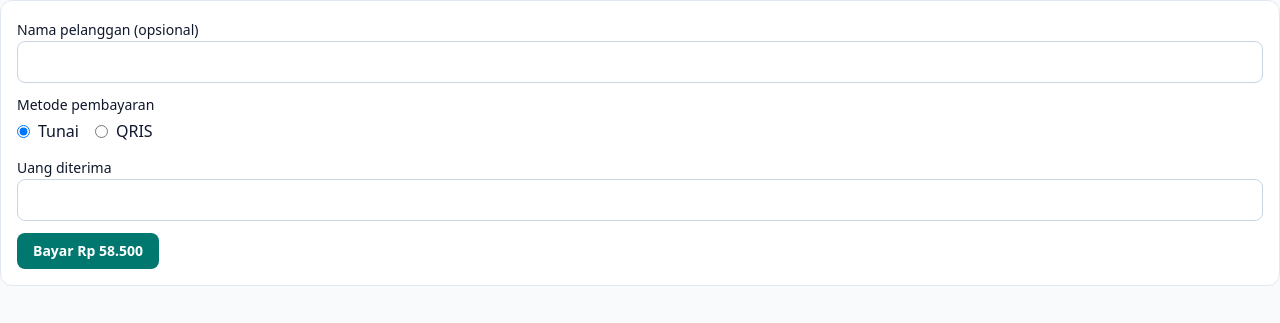
Test case: FormPembayaran (React Hook Form + Zod) › menampilkan kembalian dan mengirim data bertipe angka
Later steps or results of the test are not shown.
Type " Budi " into the field labelled "Nama pelanggan (opsional)" at point(640, 62), box [17,41,1263,83]
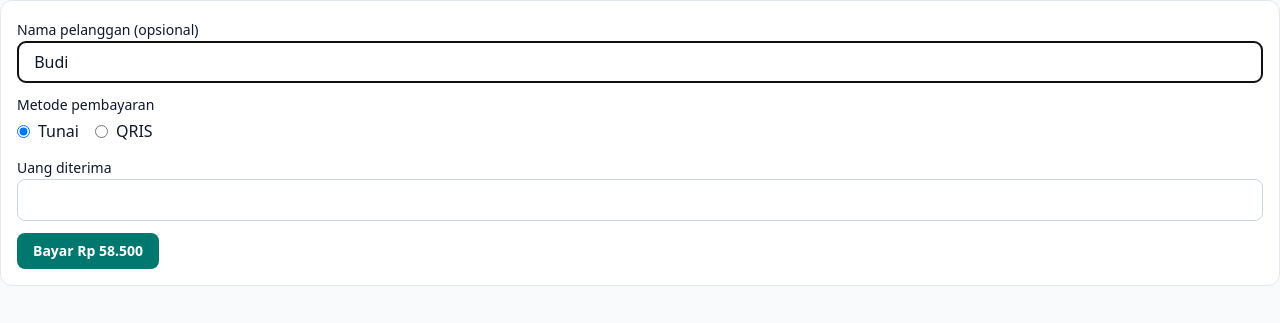
Type "60000" into the number field labelled "Uang diterima" at point(640, 200), box [17,179,1263,221]
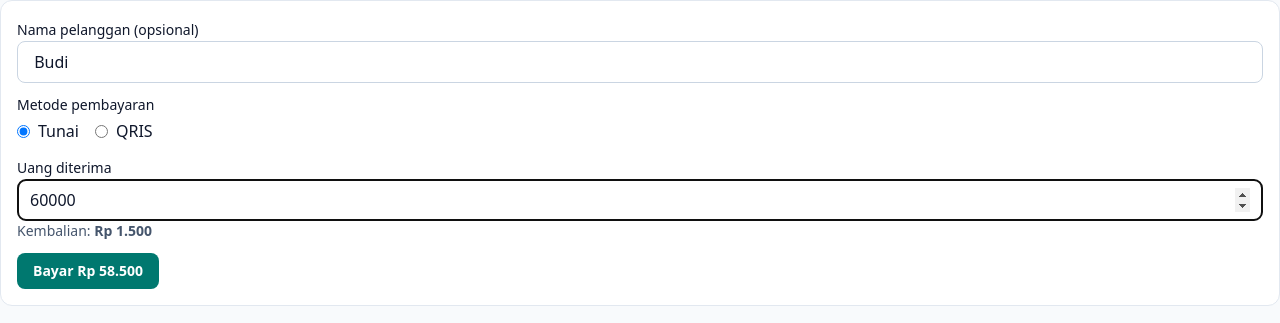
Expected: the text "Kembalian: Rp 1.500" is shown, [17,221,152,240]
